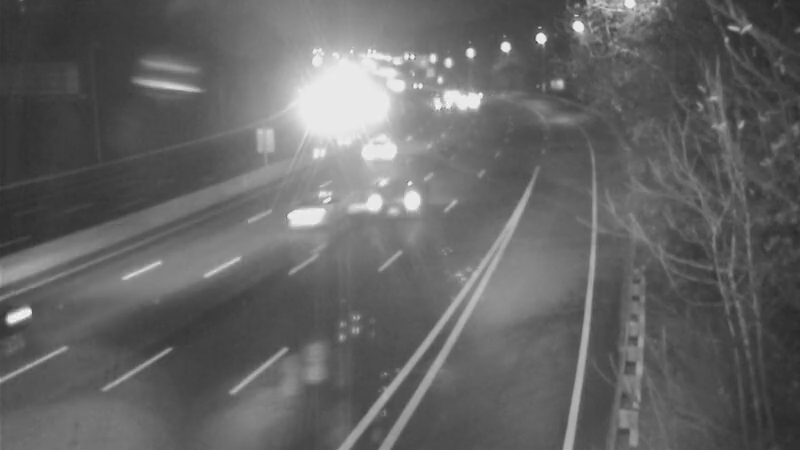vehicle: (350, 161, 430, 241), (362, 120, 412, 170)
